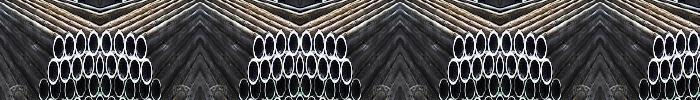pipe: (341, 59, 352, 84), (248, 59, 259, 84), (448, 59, 459, 84), (141, 59, 152, 84), (541, 59, 552, 84), (48, 59, 59, 84), (648, 59, 659, 84), (325, 35, 336, 58), (264, 35, 275, 58), (464, 35, 475, 58), (125, 35, 136, 58), (525, 35, 536, 58), (64, 35, 75, 58), (664, 35, 675, 58), (301, 32, 312, 54), (288, 32, 299, 54), (488, 32, 499, 54), (101, 32, 112, 54), (501, 32, 512, 54), (88, 32, 99, 54), (688, 32, 699, 54), (314, 32, 324, 56), (336, 37, 346, 61), (306, 53, 316, 77), (318, 56, 328, 80), (330, 58, 340, 82), (276, 32, 286, 56), (476, 32, 486, 56), (114, 32, 124, 56), (514, 32, 524, 56), (76, 32, 86, 56), (676, 32, 686, 56), (254, 37, 264, 61), (454, 37, 464, 61), (136, 37, 146, 61), (536, 37, 546, 61), (54, 37, 64, 61), (654, 37, 664, 61), (284, 53, 294, 77), (484, 53, 494, 77), (106, 53, 116, 77), (506, 53, 516, 77), (84, 53, 94, 77), (684, 53, 694, 77), (272, 56, 282, 80), (472, 56, 482, 80), (118, 56, 128, 80), (518, 56, 528, 80), (72, 56, 82, 80), (672, 56, 682, 80), (260, 58, 270, 82), (460, 58, 470, 82), (130, 58, 140, 82), (530, 58, 540, 82), (60, 58, 70, 82), (660, 58, 670, 82), (301, 74, 311, 97), (289, 74, 299, 97), (489, 74, 499, 97), (101, 74, 111, 97), (501, 74, 511, 97), (89, 74, 99, 97), (689, 74, 699, 97), (314, 75, 324, 97), (325, 78, 335, 100), (276, 75, 286, 97), (476, 75, 486, 97), (114, 75, 124, 97), (514, 75, 524, 97), (76, 75, 86, 97), (676, 75, 686, 97), (265, 78, 275, 100), (465, 78, 475, 100), (125, 78, 135, 100), (525, 78, 535, 100), (65, 78, 75, 100), (665, 78, 675, 100), (351, 79, 361, 100), (239, 79, 249, 100), (439, 79, 449, 100), (151, 79, 161, 100), (551, 79, 561, 100), (39, 79, 49, 100), (639, 79, 649, 100), (340, 79, 350, 99), (250, 79, 260, 99), (450, 79, 460, 99), (140, 79, 150, 99), (540, 79, 550, 99), (50, 79, 60, 99), (650, 79, 660, 99)
